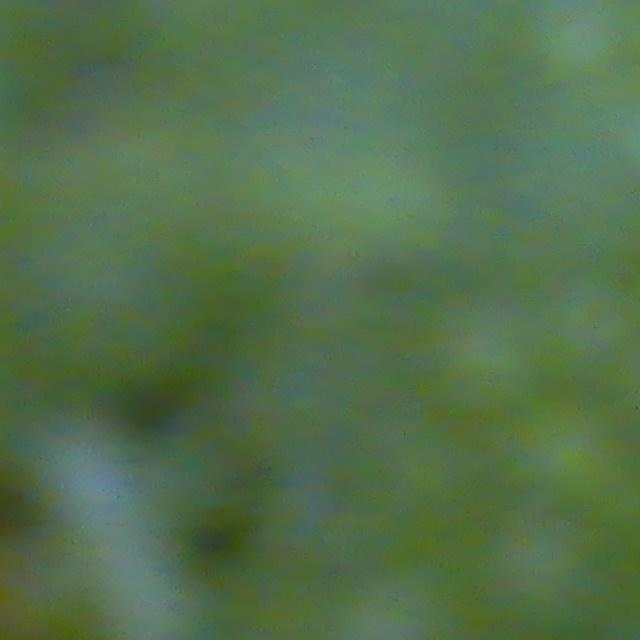SeaGrape: (464, 503, 605, 640), (506, 387, 634, 517), (464, 310, 575, 425)
